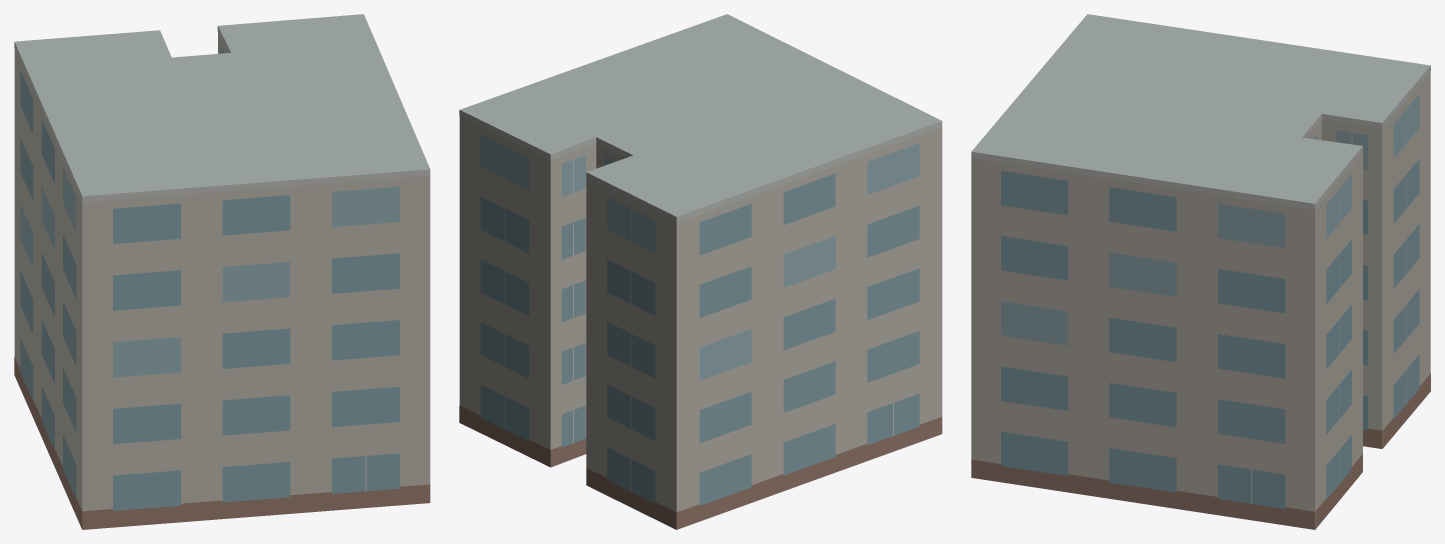
File: survey-upis-32890814.glb
3 views of the same model, side by side, from view 1: azimuth 30°, elevation 25°; view 2: azimuth 150°, elevation 25°; view 3: azimuth 270°, elevation 25° (orthographic). The views are drawn at different scales.
Visible parts, largest first — view 1: survey-upis-32890814.tmp; view 2: survey-upis-32890814.tmp; view 3: survey-upis-32890814.tmp.
Boxes of the visible parts, x1=… form: survey-upis-32890814.tmp: x1=14, y1=14, x2=430, y2=529; survey-upis-32890814.tmp: x1=459, y1=14, x2=942, y2=529; survey-upis-32890814.tmp: x1=971, y1=14, x2=1430, y2=529.
Size of the model in its own units: 16.24 by 13 by 16.61.
